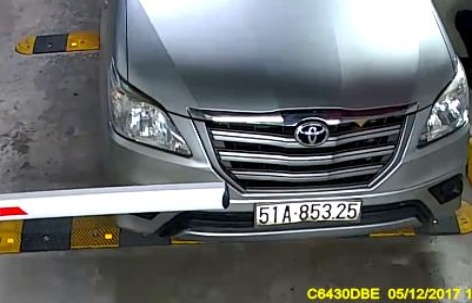plate: (246, 192, 365, 231)
